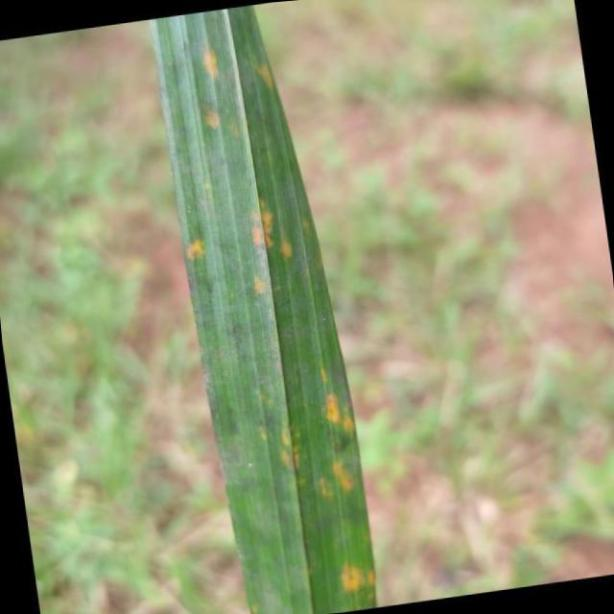Kalium: (147, 0, 379, 612)
